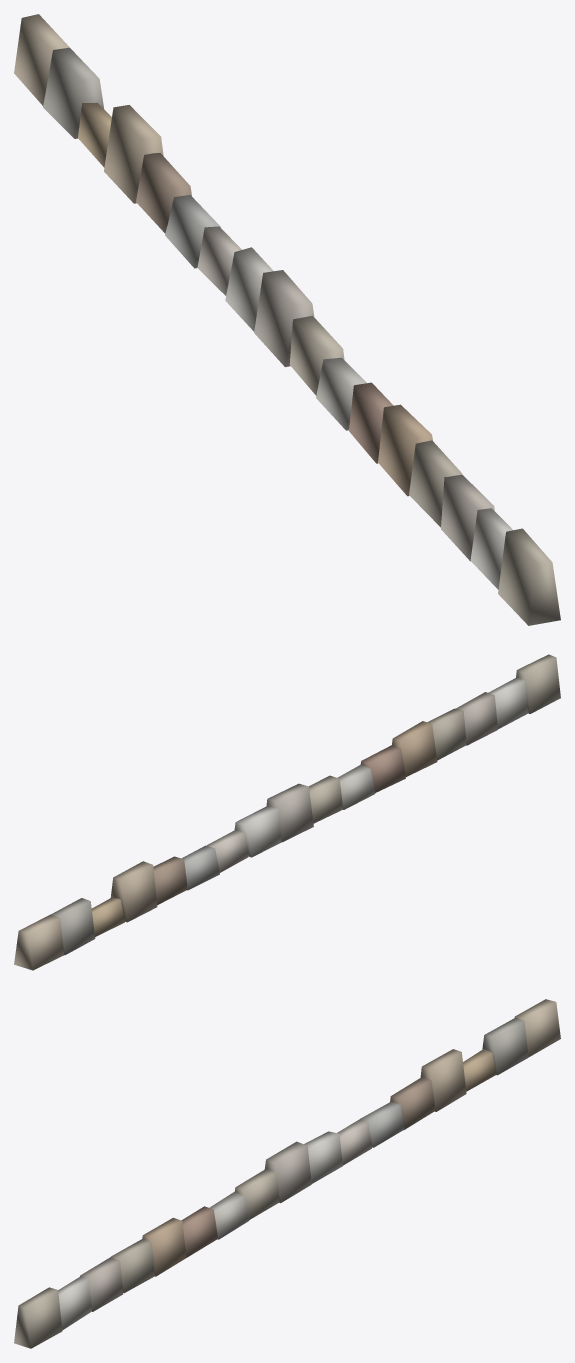
File: farm_20_16_far.glb
3 renders of one model, top to bottom at view 1: azimuth 30°, elevation 25°; view 2: azimuth 150°, elevation 25°; view 3: azimuth 330°, elevation 25°, orthographic. The views are drawn at different scales.
Parts seen in each view (by area): view 1: geometry_0; view 2: geometry_0; view 3: geometry_0.
Part boxes in pixels (x1,y1,x2,y2): geometry_0: (14, 14, 560, 625); geometry_0: (14, 654, 560, 970); geometry_0: (14, 999, 560, 1348).
Bounding box in the file's own units: 4.2 × 1.91 × 26.7.
